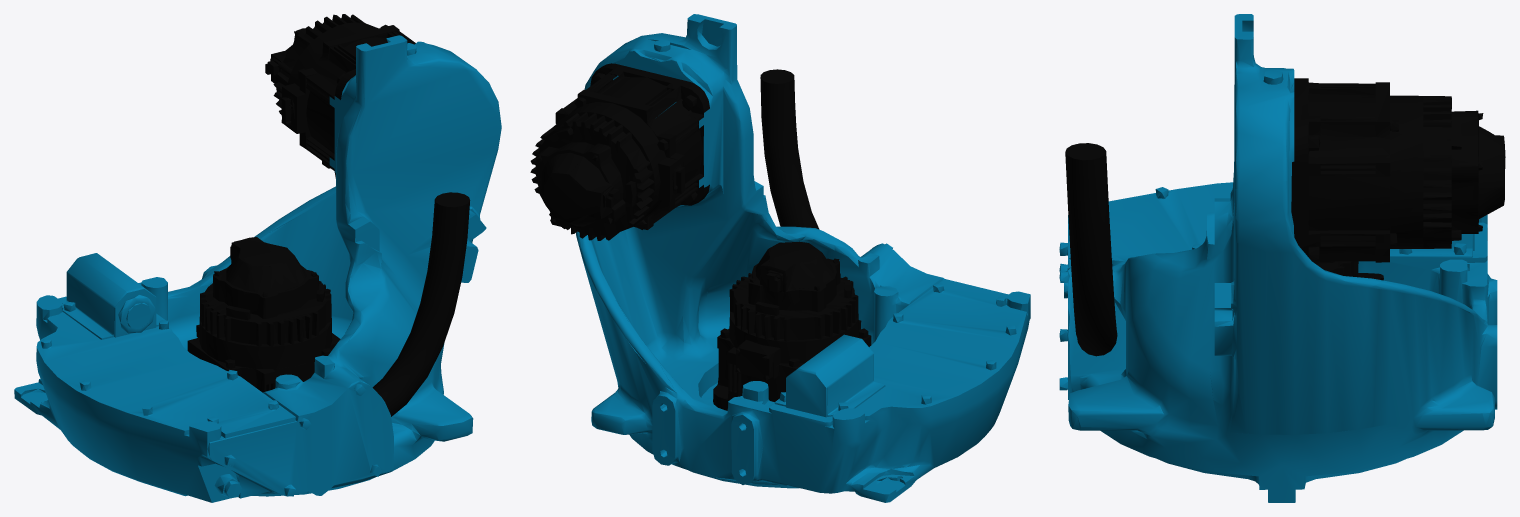
3 renders of one model, left to right at view 1: azimuth 30°, elevation 25°; view 2: azimuth 150°, elevation 25°; view 3: azimuth 270°, elevation 25°, orthographic. The views are drawn at different scales.
Parts seen in each view (by area): view 1: f_1-06vxh12-a00_lk1; view 2: f_1-06vxh12-a00_lk1; view 3: f_1-06vxh12-a00_lk1.
Part boxes in pixels (left/top/right/bottom): f_1-06vxh12-a00_lk1: left=14, top=14, right=501, bottom=502; f_1-06vxh12-a00_lk1: left=530, top=14, right=1030, bottom=502; f_1-06vxh12-a00_lk1: left=1059, top=14, right=1505, bottom=502.
Bounding box in the file's own units: 0.4659 × 0.3729 × 0.4112.
